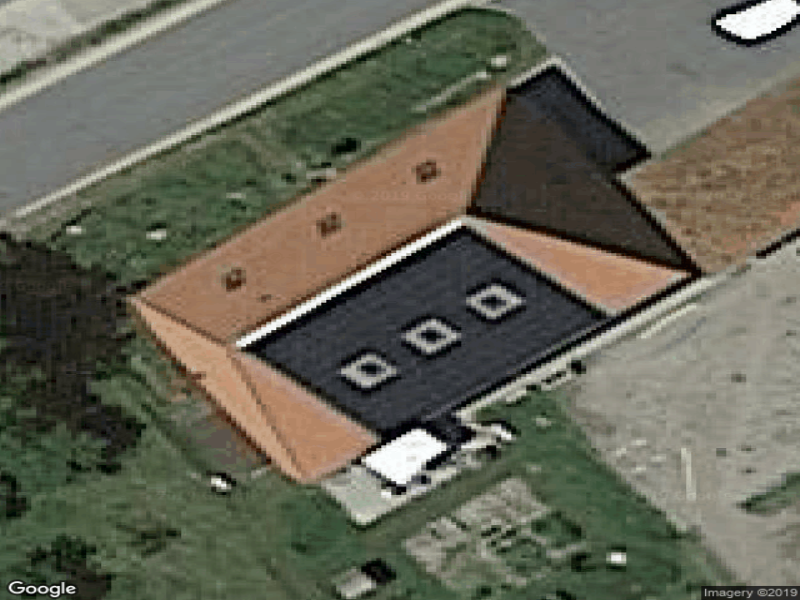pv: (246, 229, 614, 442)
